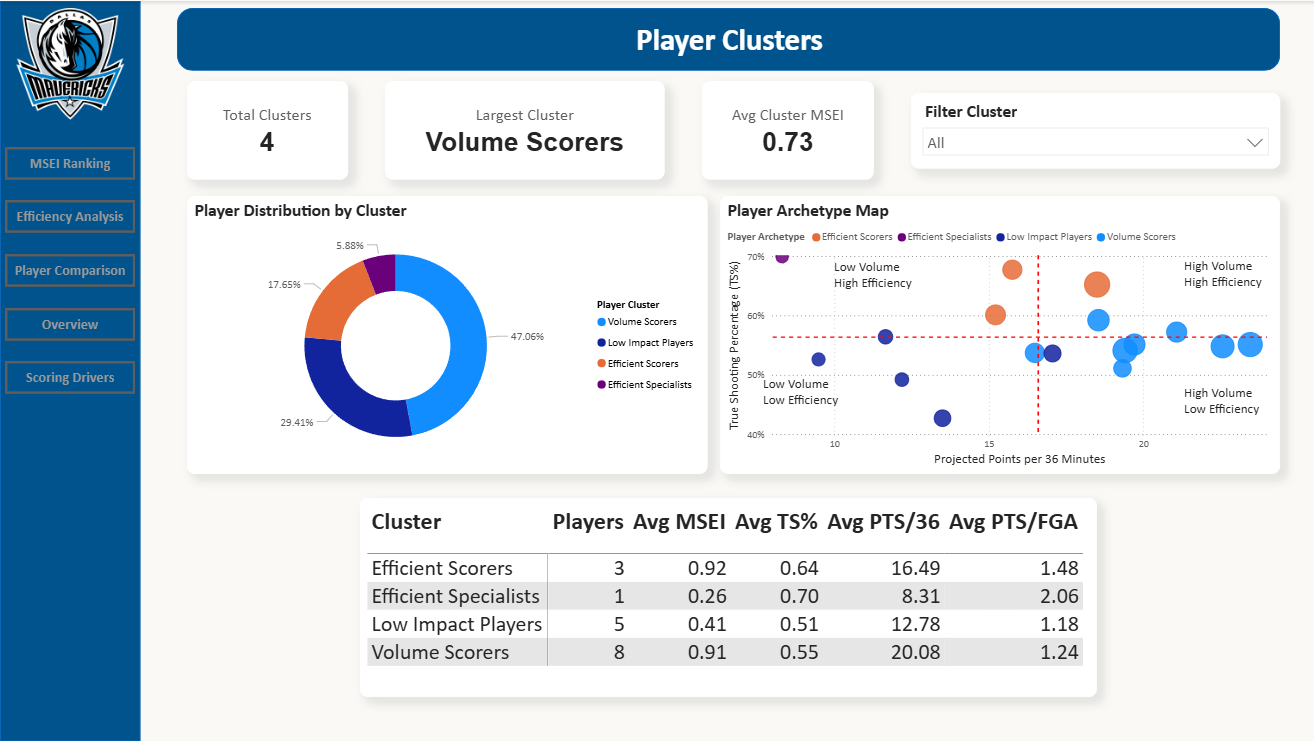

This screenshot's page, from the dashboard's own definition file:
{"tool":"powerbi","page":{"name":"Player Clusters","canvas":[1600,900],"ordinal":4},"visuals":[{"type":"shape","box":[0,0,170.7,900],"z":0},{"type":"image","box":[5.5,8.9,158.5,136.3],"z":1000},{"type":"actionButton","box":[5.5,177.3,158.5,39.9],"z":2000},{"type":"actionButton","box":[5.5,242.5,158.5,39.9],"z":3000},{"type":"actionButton","box":[5.5,307.6,158.5,39.9],"z":4000},{"type":"actionButton","box":[5.5,372.7,158.5,39.9],"z":5000},{"type":"actionButton","box":[5.5,437.8,158.5,39.9],"z":6000},{"type":"shape","box":[215,8.9,1341.1,76.5],"z":7000},{"type":"textbox","box":[227.2,17.7,1319,59.9],"z":8000},{"type":"cardVisual","fields":{"Data":["mavericks_scoring_efficiency_dashboard.Total Clusters"]},"box":[227.4,97.3,195.7,120.4],"z":9000},{"type":"cardVisual","fields":{"Data":["mavericks_scoring_efficiency_dashboard.Avg Cluster MSEI"]},"box":[853.5,97.3,209.1,120.4],"z":10000},{"type":"cardVisual","fields":{"Data":["mavericks_scoring_efficiency_dashboard.Largest Cluster"]},"box":[468.1,97.3,340.4,120.4],"z":11000},{"type":"donutChart","title":"Player Distribution by Cluster","fields":{"Category":["mavericks_scoring_efficiency_dashboard.Cluster_Name"],"Y":["CountNonNull(mavericks_scoring_efficiency_dashboard.Player)"]},"box":[227.4,237.1,633.4,338],"z":12000},{"type":"scatterChart","title":"Player Archetype Map","fields":{"X":["Avg(mavericks_scoring_efficiency_dashboard.Projected_PTS_36)"],"Y":["Avg(mavericks_scoring_efficiency_dashboard.TS%)"],"Size":["Sum(mavericks_scoring_efficiency_dashboard.MSEI)"],"Series":["mavericks_scoring_efficiency_dashboard.Cluster_Name"],"Category":["mavericks_scoring_efficiency_dashboard.Player"]},"box":[875.4,237.1,680.9,338],"z":13000},{"type":"textbox","box":[1434.7,307.6,121.6,55.9],"z":14000},{"type":"textbox","box":[1434.7,462,121.6,55.9],"z":15000},{"type":"textbox","box":[1009.1,308.8,114.3,52.3],"z":16000},{"type":"textbox","box":[922.8,451.1,111.9,52.3],"z":17000},{"type":"pivotTable","fields":{"Rows":["mavericks_scoring_efficiency_dashboard.Cluster_Name"],"Values":["mavericks_scoring_efficiency_dashboard.Player Count","mavericks_scoring_efficiency_dashboard.Avg MSEI","mavericks_scoring_efficiency_dashboard.Avg TS%","mavericks_scoring_efficiency_dashboard.Avg PTS36","mavericks_scoring_efficiency_dashboard.Avg PTSFGA"]},"box":[437.7,604.3,896,241.9],"z":18000},{"type":"slicer","fields":{"Values":["mavericks_scoring_efficiency_dashboard.Cluster_Name"]},"box":[1107.6,111.9,448.6,92.4],"z":19000}]}

Visuals, with their boxes in screenshot pixels (x1, y1, x2, y2), scaled from the page's 1600x900 canvas onto the 1314x741 screenshot:
shape: [0, 0, 140, 740]
image: [5, 7, 135, 120]
actionButton: [5, 146, 135, 179]
actionButton: [5, 200, 135, 233]
actionButton: [5, 253, 135, 286]
actionButton: [5, 307, 135, 340]
actionButton: [5, 360, 135, 393]
shape: [177, 7, 1278, 70]
textbox: [187, 15, 1270, 64]
cardVisual - mavericks_scoring_efficiency_dashboard.Total Clusters: [187, 80, 347, 179]
cardVisual - mavericks_scoring_efficiency_dashboard.Avg Cluster MSEI: [701, 80, 873, 179]
cardVisual - mavericks_scoring_efficiency_dashboard.Largest Cluster: [384, 80, 664, 179]
"Player Distribution by Cluster" donutChart: [187, 195, 707, 473]
"Player Archetype Map" scatterChart: [719, 195, 1278, 473]
textbox: [1178, 253, 1278, 299]
textbox: [1178, 380, 1278, 426]
textbox: [829, 254, 923, 297]
textbox: [758, 371, 850, 414]
pivotTable - mavericks_scoring_efficiency_dashboard.Cluster_Name x mavericks_scoring_efficiency_dashboard.Player Count: [359, 498, 1095, 697]
slicer - mavericks_scoring_efficiency_dashboard.Cluster_Name: [910, 92, 1278, 168]
